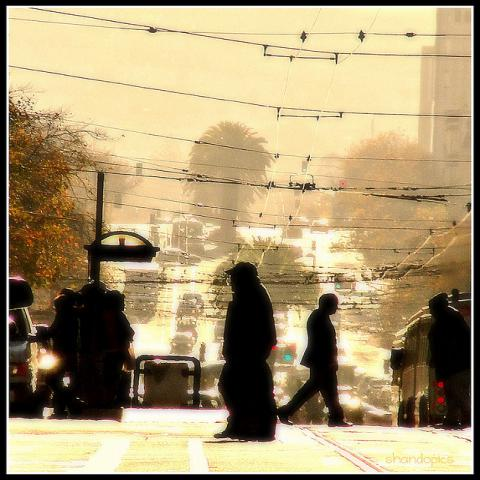truck: (381, 287, 476, 428)
